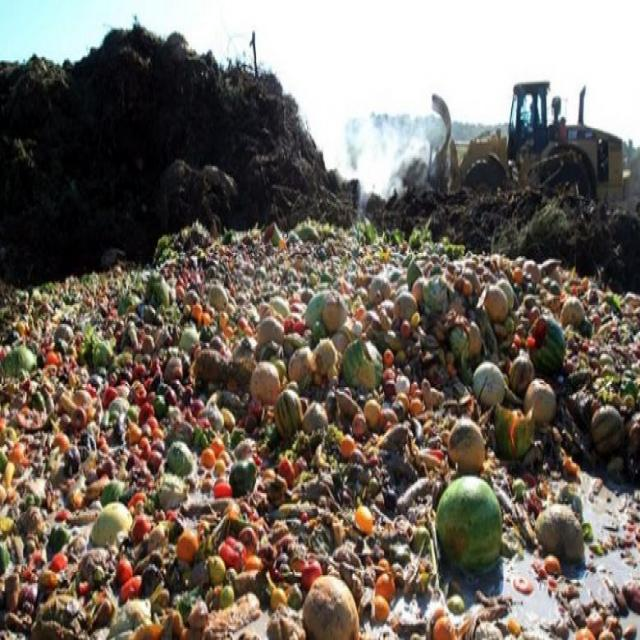food_waste: (287, 230, 626, 611), (65, 435, 150, 578), (428, 462, 517, 594), (467, 336, 518, 428)
